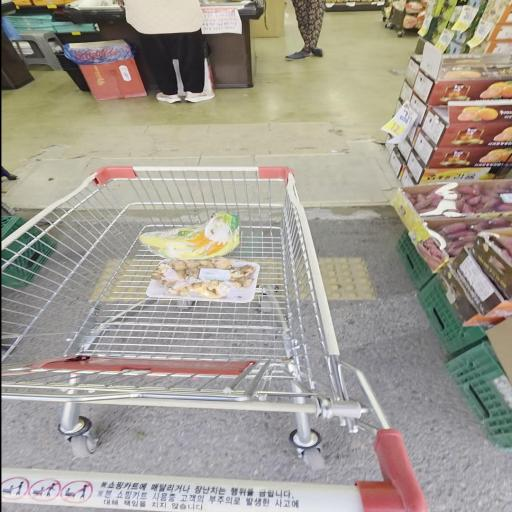fully_cart: (0, 163, 429, 508)
